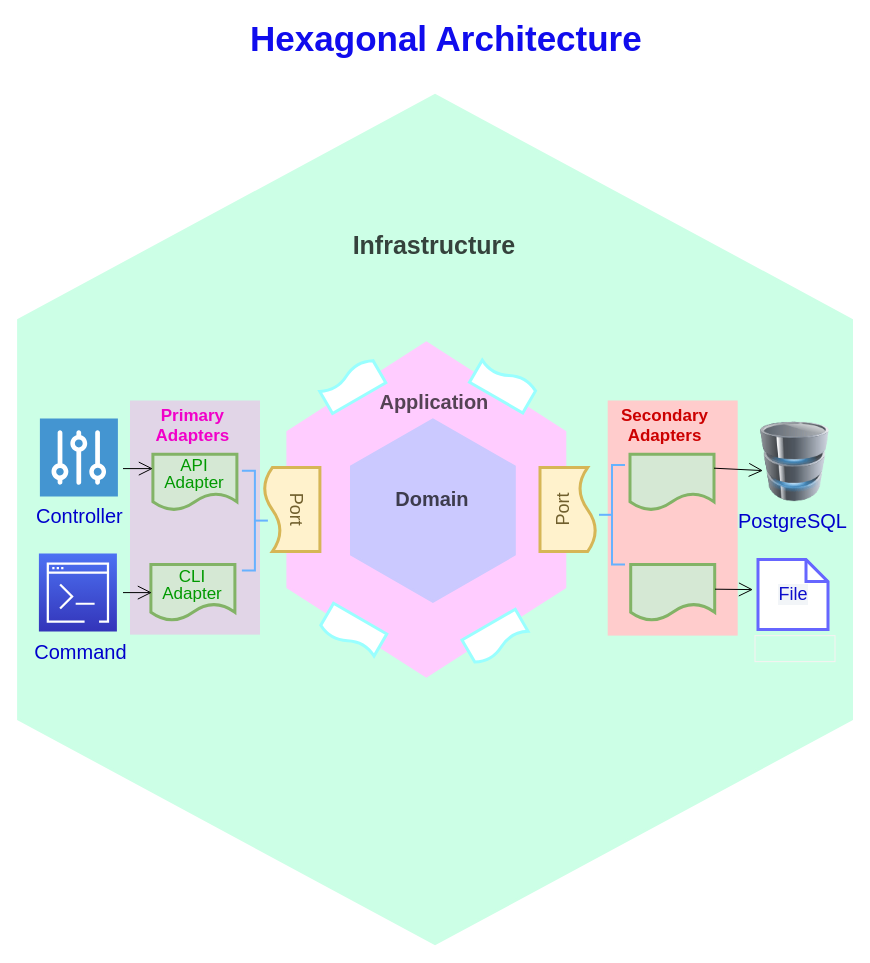
This 870x963 diagram has some shape labels left out. The shapes that lost their labels are listed below. From the top down, each one's centre as x and y in pixels, then its label:
At [671,481]: "Postgres Adapter".
At [672,592]: "SQLite Adapter".
At [794,648]: "SQLite".
